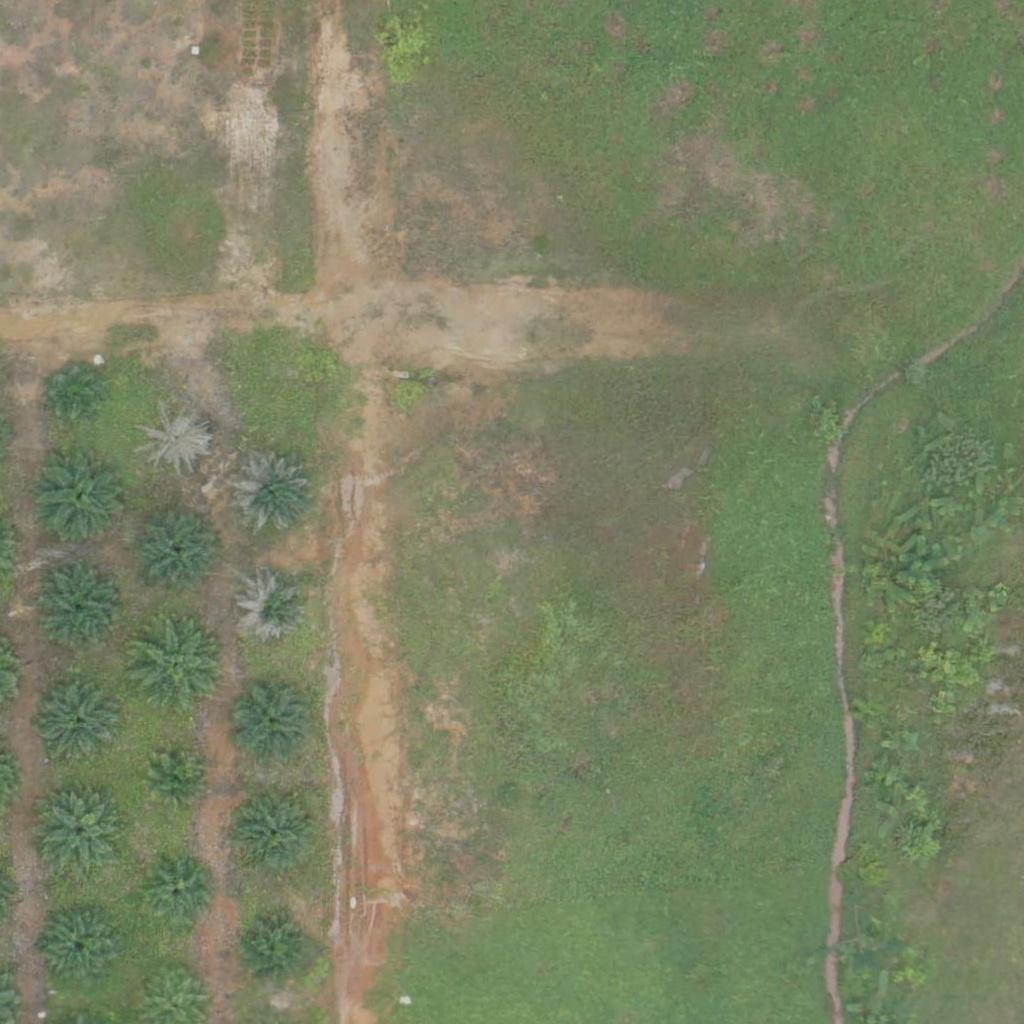Kelapa_Sawit: (31, 448, 131, 548), (130, 502, 230, 602), (130, 616, 230, 716), (39, 905, 127, 994), (226, 450, 314, 538), (228, 680, 316, 768), (229, 791, 317, 879), (36, 565, 123, 653), (35, 681, 122, 769), (36, 791, 123, 879), (137, 401, 212, 477), (238, 571, 313, 647), (143, 856, 218, 931), (240, 911, 315, 986), (145, 751, 208, 814), (41, 361, 103, 423)
